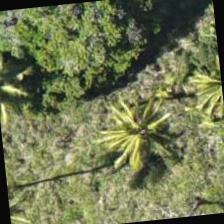Kelapa_Sawit: (81, 114, 180, 213), (166, 39, 223, 136)
